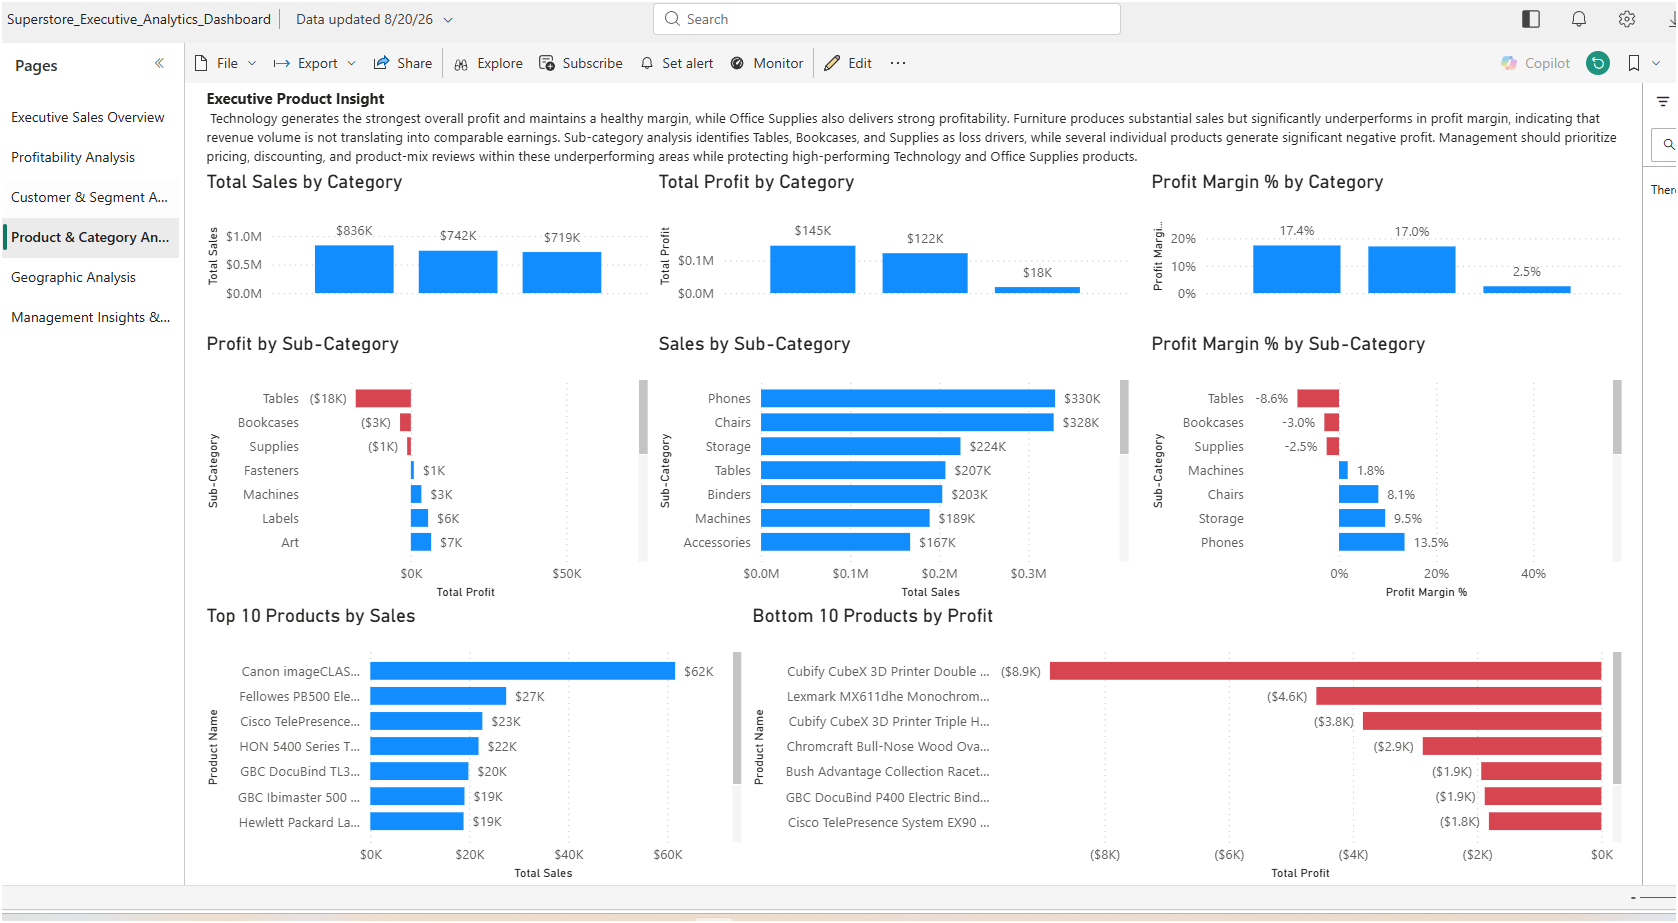

The dashboard page shown, as its layout file describes it:
{"tool":"powerbi","page":{"name":"Product & Category Analysis","canvas":[1280,720],"ordinal":3},"visuals":[{"type":"clusteredColumnChart","title":"Total Sales by Category","fields":{"Category":["sample_superstore_clean.Category"],"Y":["sample_superstore_clean.Total Sales"]},"box":[0,77.8,405.6,124.5],"z":0},{"type":"clusteredColumnChart","title":"Total Profit by Category","fields":{"Category":["sample_superstore_clean.Category"],"Y":["sample_superstore_clean.Total Profit"]},"box":[405.6,77.8,432.8,124.5],"z":1000},{"type":"clusteredColumnChart","title":"Profit Margin % by Category","fields":{"Category":["sample_superstore_clean.Category"],"Y":["sample_superstore_clean.Profit Margin %"]},"box":[848.1,77.8,431.9,124.5],"z":2000},{"type":"clusteredBarChart","title":"Profit by Sub-Category","fields":{"Category":["sample_superstore_clean.Sub-Category"],"Y":["sample_superstore_clean.Total Profit"]},"box":[0,223.7,405.6,244.1],"z":3000},{"type":"clusteredBarChart","title":"Sales by Sub-Category","fields":{"Category":["sample_superstore_clean.Sub-Category"],"Y":["sample_superstore_clean.Total Sales"]},"box":[405.6,223.7,431.9,244.1],"z":4000},{"type":"clusteredBarChart","title":"Profit Margin % by Sub-Category","fields":{"Category":["sample_superstore_clean.Sub-Category"],"Y":["sample_superstore_clean.Profit Margin %"]},"box":[848.1,223.7,431.9,244.1],"z":5000},{"type":"clusteredBarChart","title":"Top 10 Products by Sales","fields":{"Category":["sample_superstore_clean.Product Name"],"Y":["sample_superstore_clean.Total Sales"]},"box":[0,468,490,252],"z":6000},{"type":"clusteredBarChart","title":"Bottom 10 Products by Profit","fields":{"Category":["sample_superstore_clean.Product Name"],"Y":["sample_superstore_clean.Total Profit"]},"box":[490,468,790,252],"z":7000},{"type":"textbox","box":[0,0,1280,77.8],"z":8000}]}

Visuals, with their boxes on the page's 1280x720 design canvas (x1, y1, x2, y2). These are canvas units, not pixel positions in the 1678x923 screenshot, which may show the page scaled, cropped or inside an application window:
"Total Sales by Category" clusteredColumnChart: rect(0, 78, 406, 202)
"Total Profit by Category" clusteredColumnChart: rect(406, 78, 838, 202)
"Profit Margin % by Category" clusteredColumnChart: rect(848, 78, 1280, 202)
"Profit by Sub-Category" clusteredBarChart: rect(0, 224, 406, 468)
"Sales by Sub-Category" clusteredBarChart: rect(406, 224, 838, 468)
"Profit Margin % by Sub-Category" clusteredBarChart: rect(848, 224, 1280, 468)
"Top 10 Products by Sales" clusteredBarChart: rect(0, 468, 490, 720)
"Bottom 10 Products by Profit" clusteredBarChart: rect(490, 468, 1280, 720)
textbox: rect(0, 0, 1280, 78)
